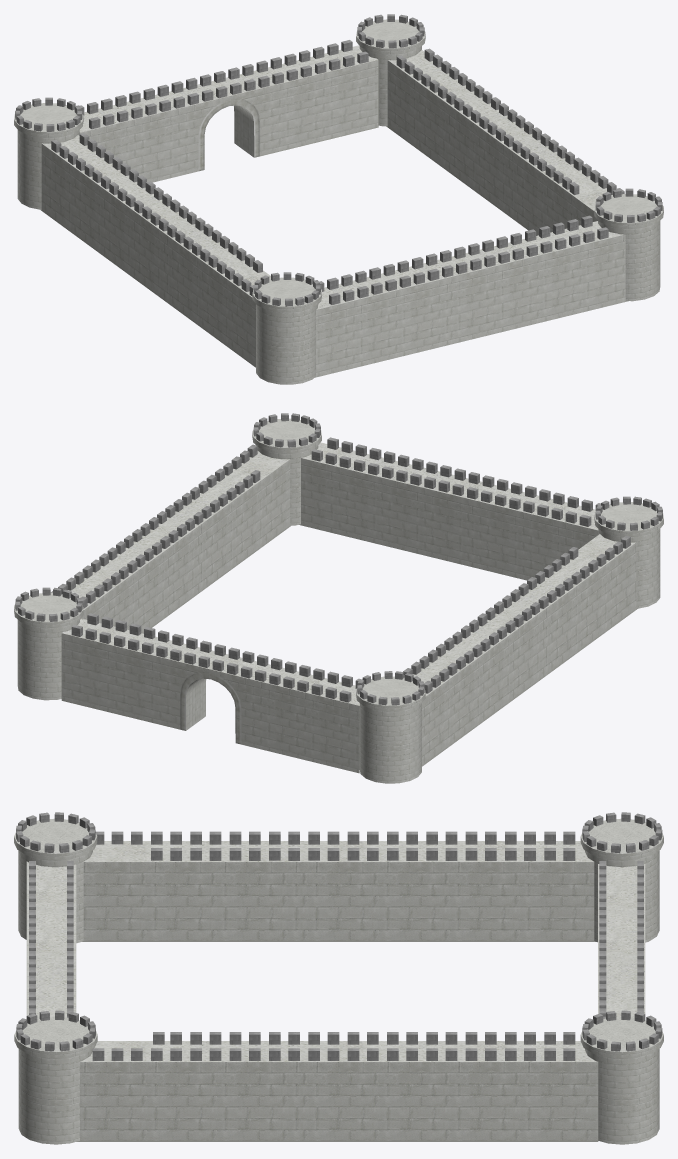
Rendered from castle_exterior.obj.
3 renders of one model, top to bottom at view 1: azimuth 30°, elevation 25°; view 2: azimuth 150°, elevation 25°; view 3: azimuth 270°, elevation 25°, orthographic. The views are drawn at different scales.
Visible parts, largest first — view 1: Castle_Exterior_Untitled; view 2: Castle_Exterior_Untitled; view 3: Castle_Exterior_Untitled.
Part boxes in pixels (x1,y1,x2,y2): Castle_Exterior_Untitled: (14,14,663,384); Castle_Exterior_Untitled: (14,413,663,783); Castle_Exterior_Untitled: (14,812,663,1144).
Bounding box in the file's own units: 0.5337 × 0.1092 × 0.6277.
